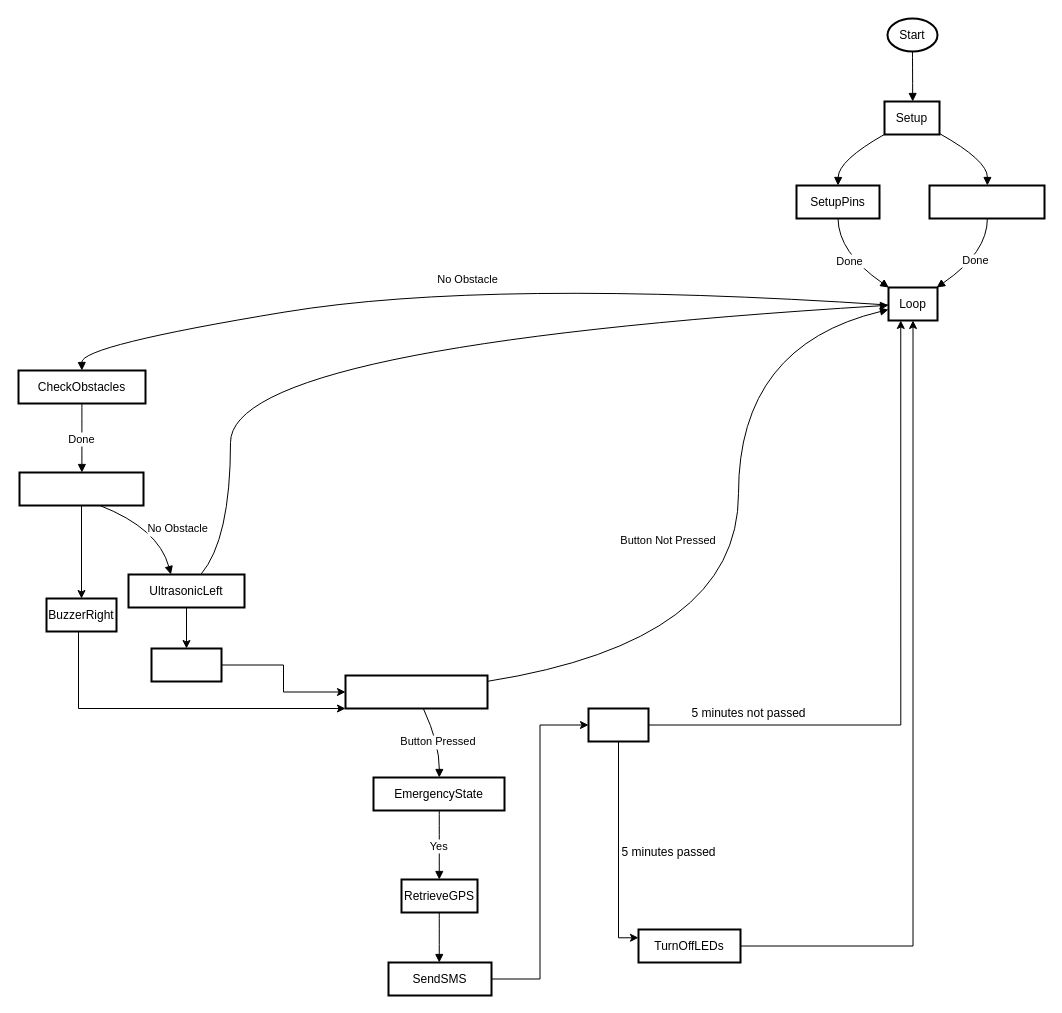
This 1062x1013 diagram has some shape labels left out. Here are the shapes that lost their labels. From the top down, the centre of each, then its label:
At [986,201]: "startupBuzzer".
At [81,488]: "UltrasonicRight".
At [186,664]: "BuzzerLeft".
At [416,691]: "CheckButtonPress".
At [618,724]: "BlinkLED".
